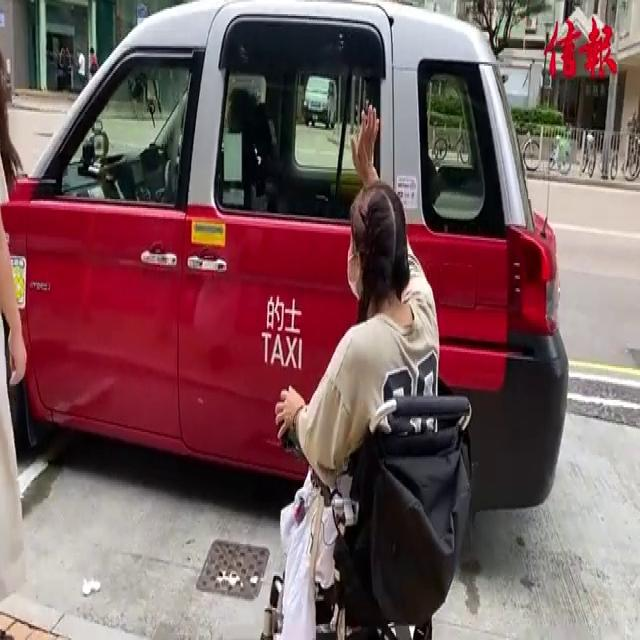wheelchairs: (261, 333, 478, 640)
